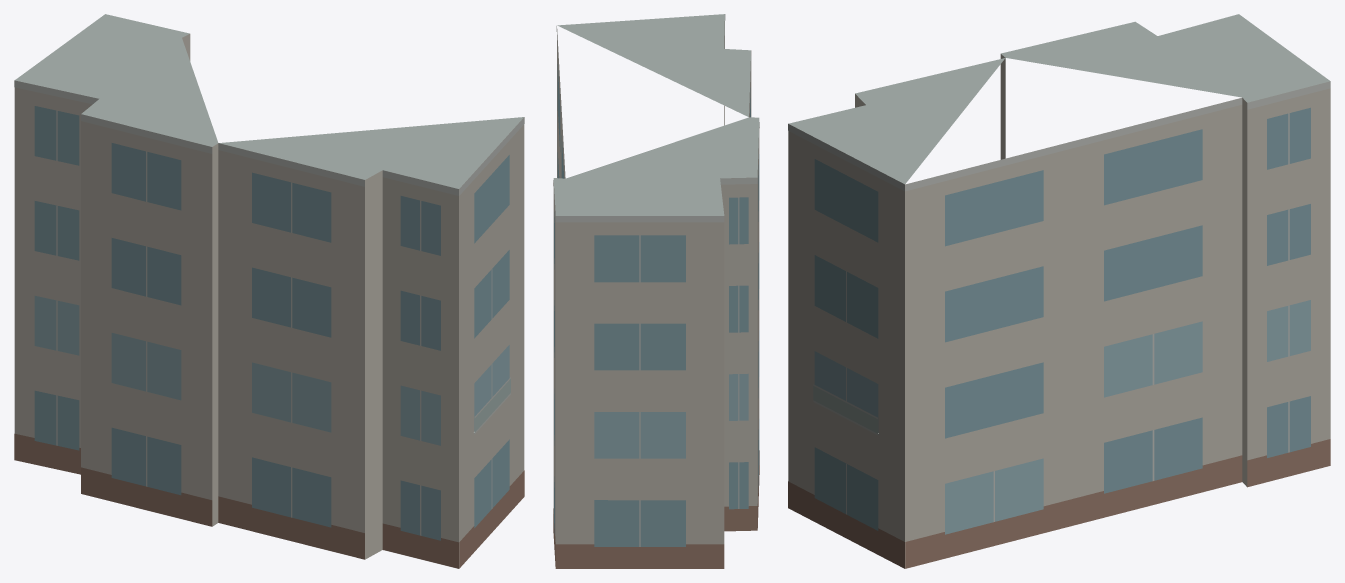
Rendered from survey-upis-33005266.glb.
The picture shows the model from 3 angles, left to right: view 1: azimuth 30°, elevation 25°; view 2: azimuth 150°, elevation 25°; view 3: azimuth 270°, elevation 25°; orthographic projection. The views are drawn at different scales.
Visible parts, largest first — view 1: survey-upis-33005266.tmp; view 2: survey-upis-33005266.tmp; view 3: survey-upis-33005266.tmp.
Boxes of the visible parts, x1,y1,x2,y2 form: survey-upis-33005266.tmp: (14, 14, 524, 568); survey-upis-33005266.tmp: (553, 14, 759, 568); survey-upis-33005266.tmp: (788, 14, 1330, 568).
Bounding box in the file's own units: 12.7 × 13.35 × 17.08.
